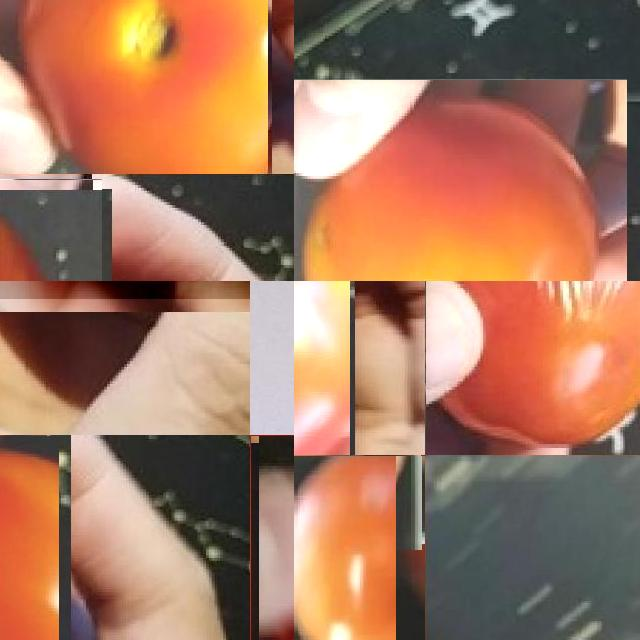Fresh Tomato: (294, 79, 627, 281), (0, 0, 268, 174), (294, 455, 425, 640), (0, 435, 59, 640), (250, 435, 294, 640)
Rotten Tomato: (425, 281, 640, 455), (0, 179, 102, 281)
